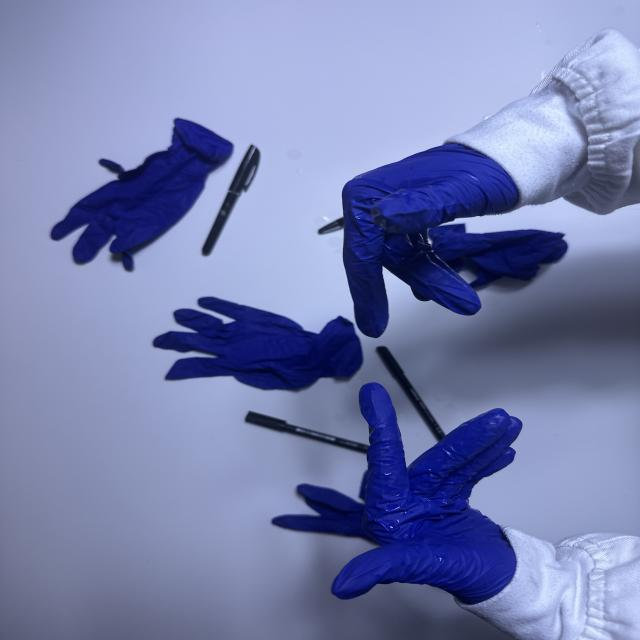gloves_contaminated: (332, 383, 522, 605), (342, 144, 519, 338)
